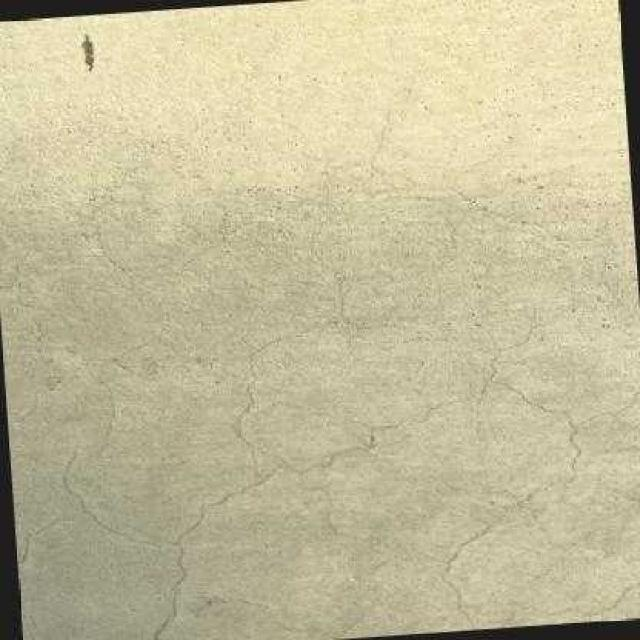D00: (146, 320, 585, 640)
